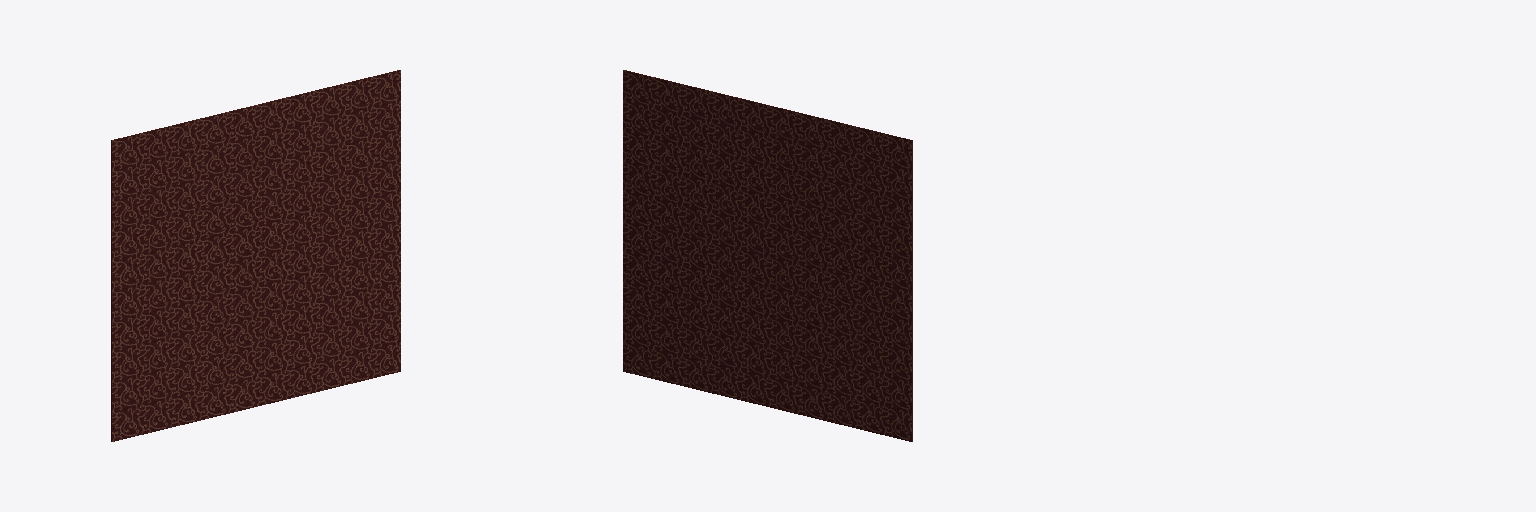
The picture shows the model from 3 angles: view 1: azimuth 30°, elevation 25°; view 2: azimuth 150°, elevation 25°; view 3: azimuth 270°, elevation 25°; orthographic projection.
Parts seen in each view (by area): view 1: Box002; view 2: Box002; view 3: none.
Boxes of the visible parts, x1=… form: Box002: x1=111, y1=70, x2=400, y2=441; Box002: x1=623, y1=70, x2=912, y2=441.
Size of the model in its own units: 3500 by 3495 by 10.
Materials: 1 (1 with a texture image).